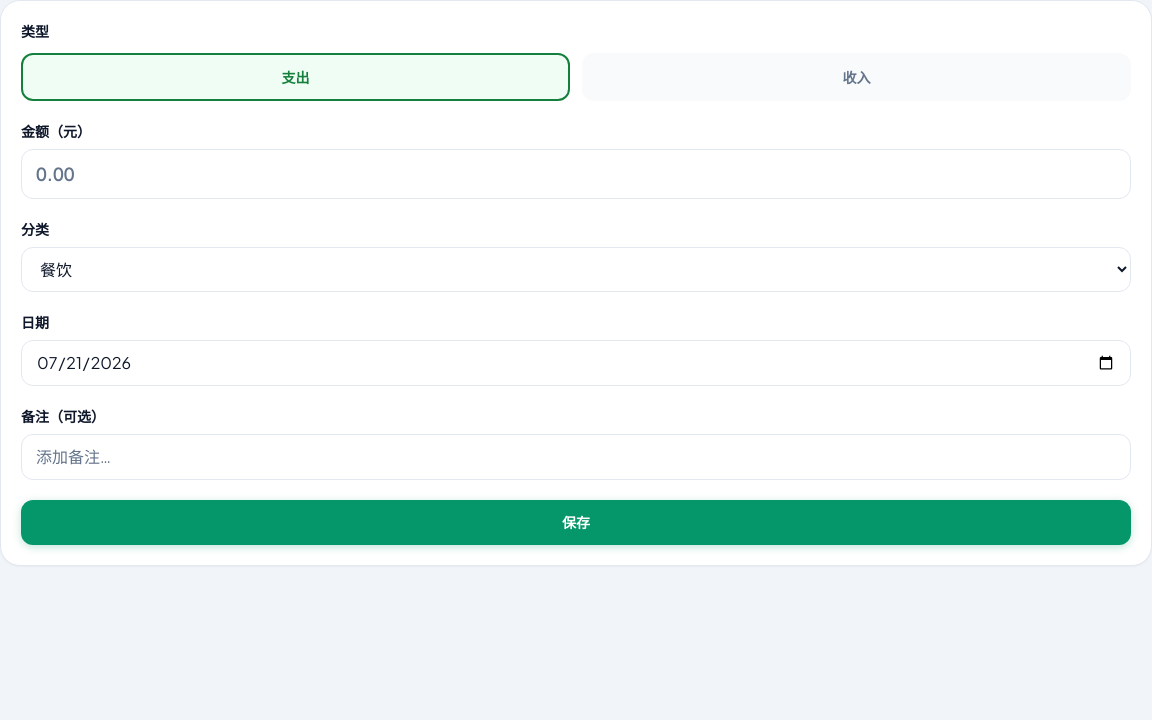
Scenario: AddTransaction › shows validation error for invalid amount
The image size is (1152, 720).
Type "0" into the field labelled "金额（元）" at coordinates (576, 174), box [21, 149, 1131, 199]
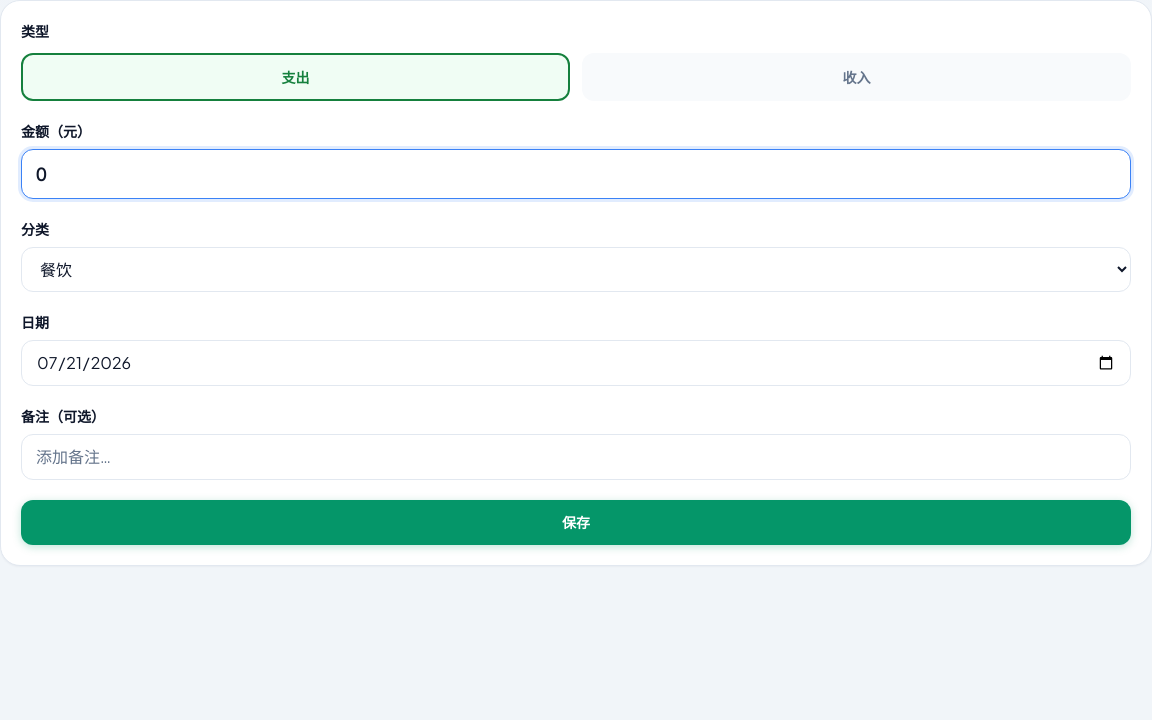
Click the button "保存" at coordinates (576, 522), box [21, 500, 1131, 545]
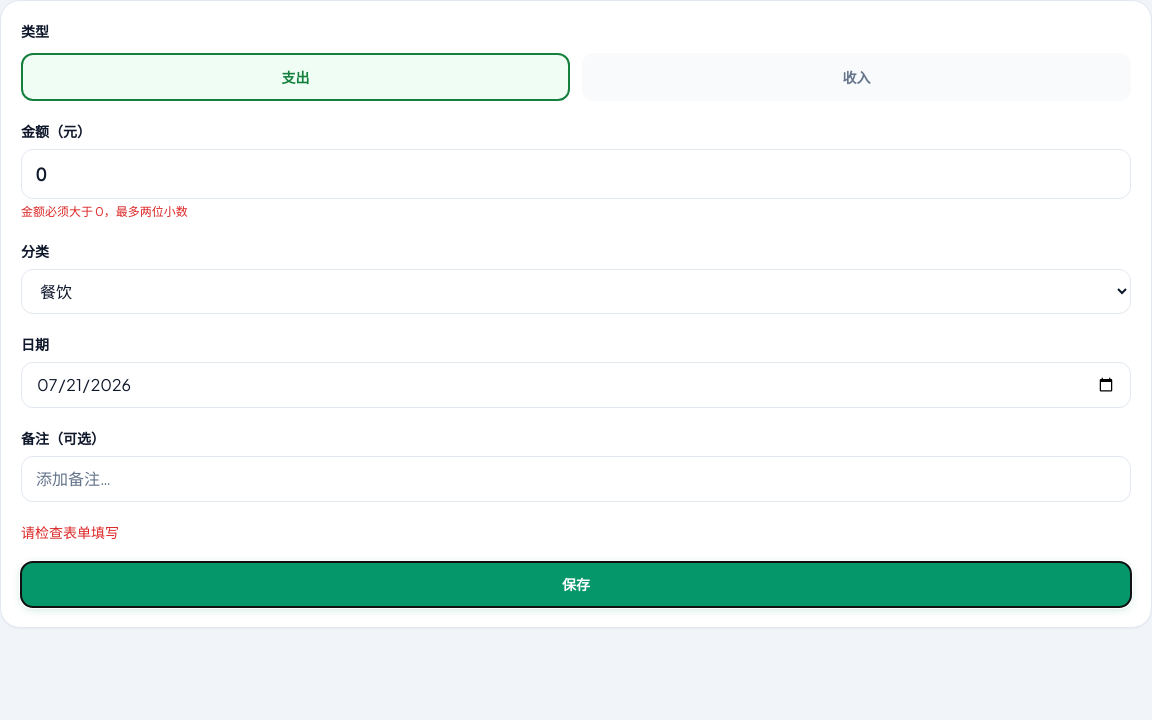
Check: the text "金额必须大于 0，最多两位小数" is shown, box [21, 204, 188, 219]
